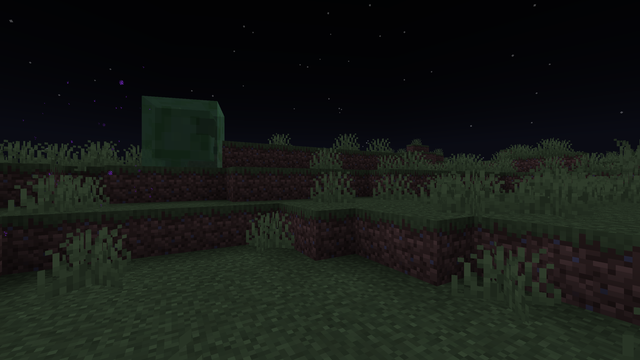slimes: (148, 90, 227, 168)
